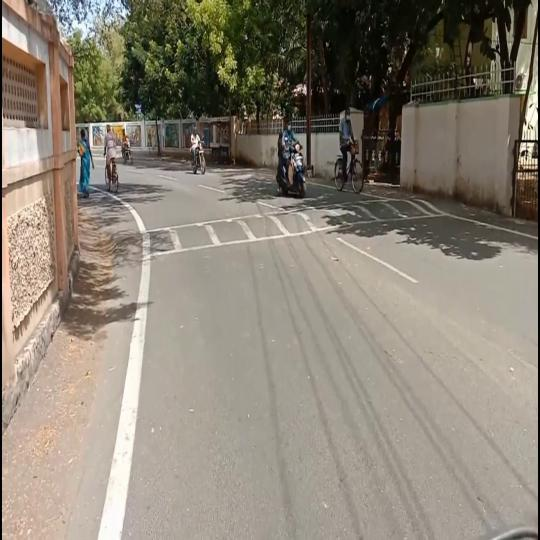Speed Bump: (118, 195, 455, 263)
